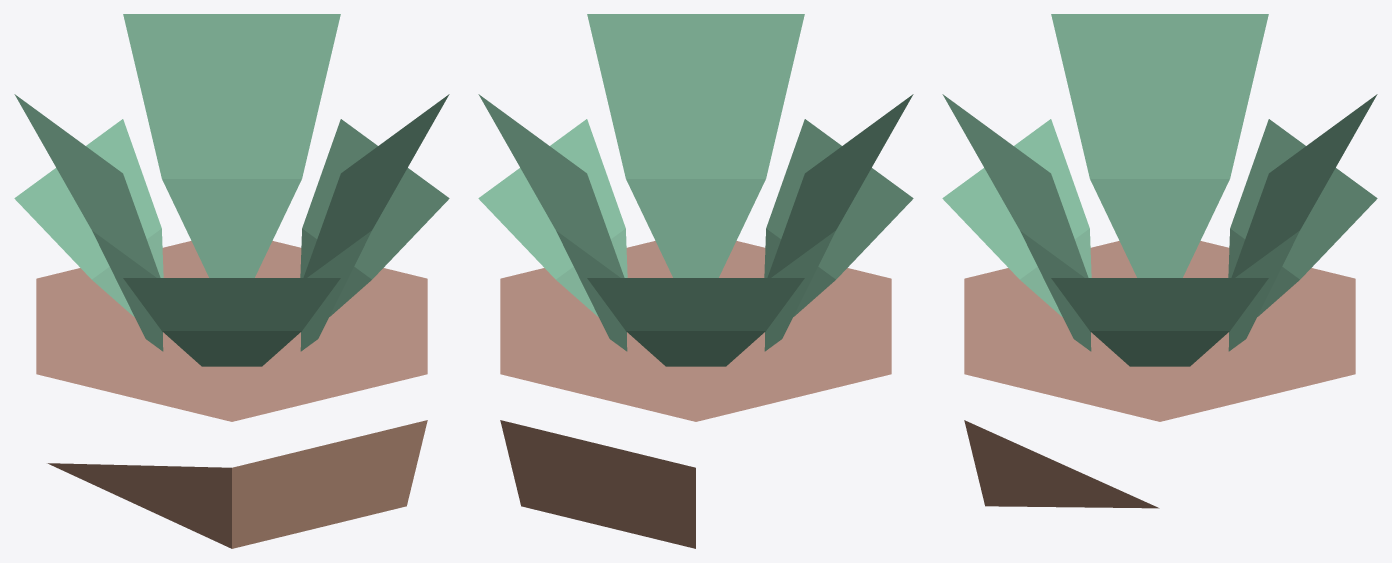
Rendered from potted_plant.glb.
3 renders of one model, left to right at view 1: azimuth 30°, elevation 25°; view 2: azimuth 150°, elevation 25°; view 3: azimuth 270°, elevation 25°, orthographic.
Visible parts, largest first — view 1: potted_plant; view 2: potted_plant; view 3: potted_plant.
Part boxes in pixels (x1,y1,x2,y2): potted_plant: [14, 14, 449, 548]; potted_plant: [478, 14, 913, 548]; potted_plant: [942, 14, 1377, 508].
Bounding box in the file's own units: 0.6272 × 0.5662 × 0.6042.
